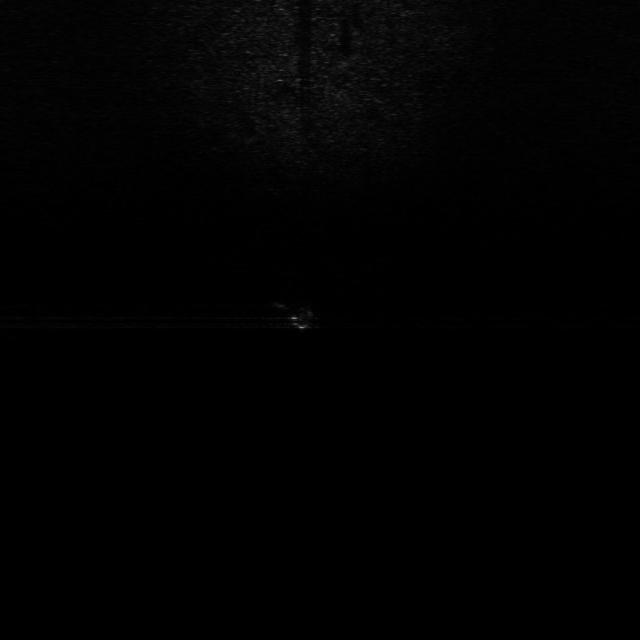human body: (257, 294, 328, 334)
